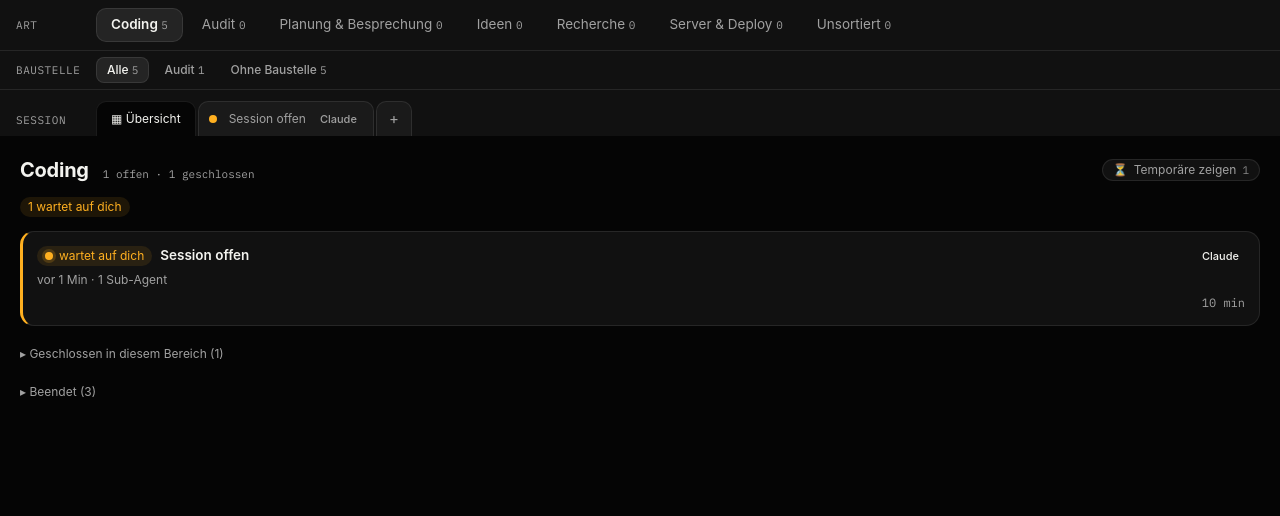
Test: Reiter-Zähler = sichtbare Liste › Art und „Alle“ zählen offen + geschlossen + beendet, ohne ausgeblendete Tests; Kind-Baustelle erreichbar
Check: the list named "Sessions in" is shown, box [20,231,1260,326]
Check: the tab "Coding 5" is shown, box [96,8,183,42]
Click the switch labelled "⏳ Temporäre zeigen 1".
click(1181, 170)  # box [1102,159,1260,181]
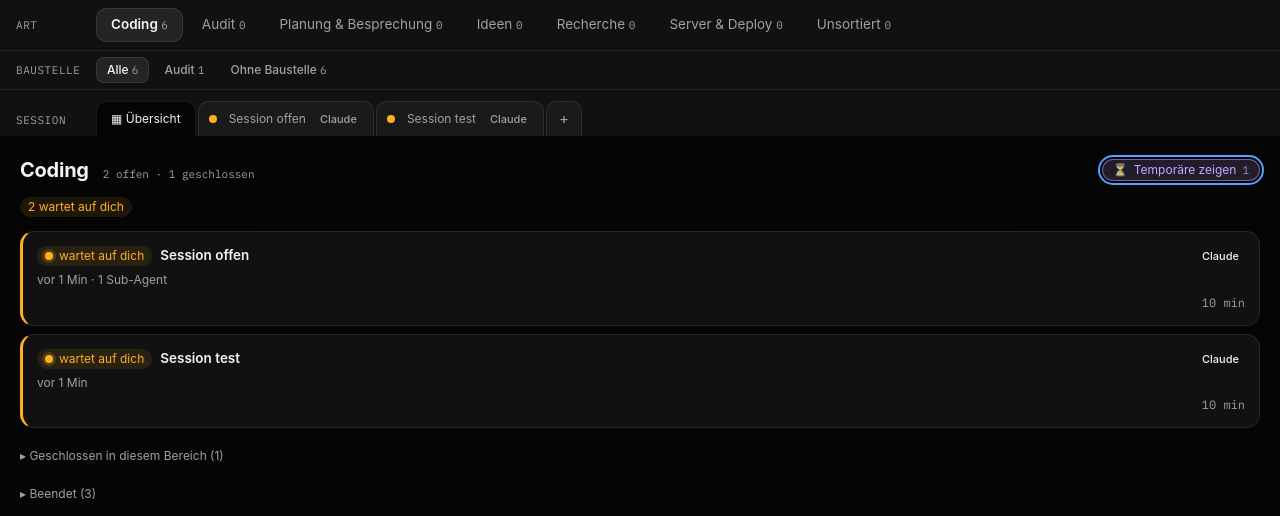
Check: the tab "Alle 6" is shown, box [96,57,149,83]
Check: the tab "Coding 6" is shown, box [96,8,183,42]
Click the tab "Audit 1".
click(184, 70)  # box [153,57,216,83]
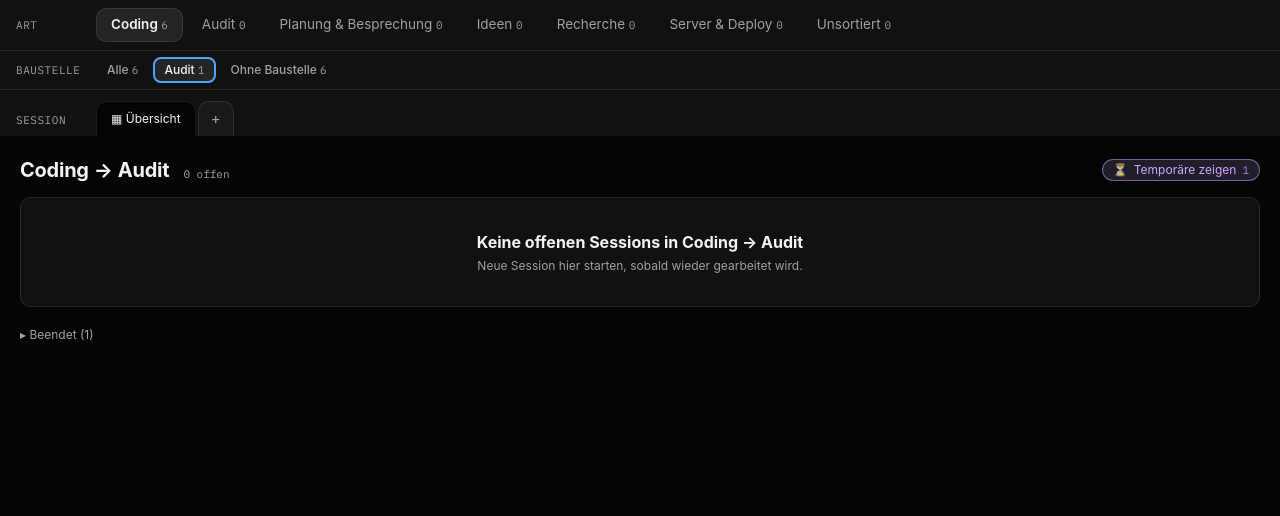
Click the button "▸ Beendet (1)".
click(57, 335)  # box [20,327,94,343]
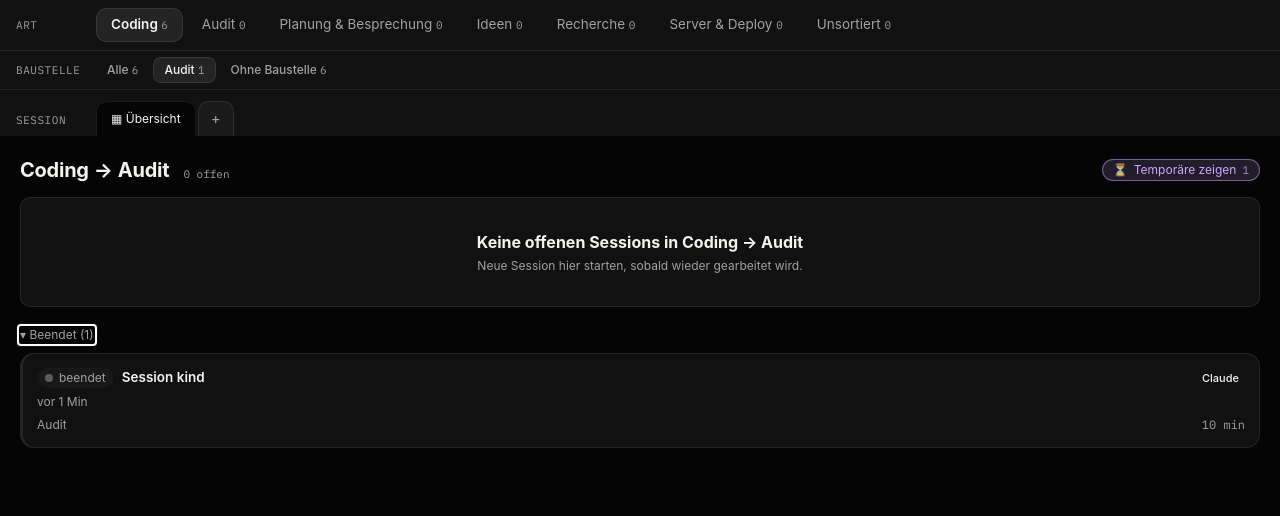
Check: the text "Session kind" is shown, box [122,369,205,385]
